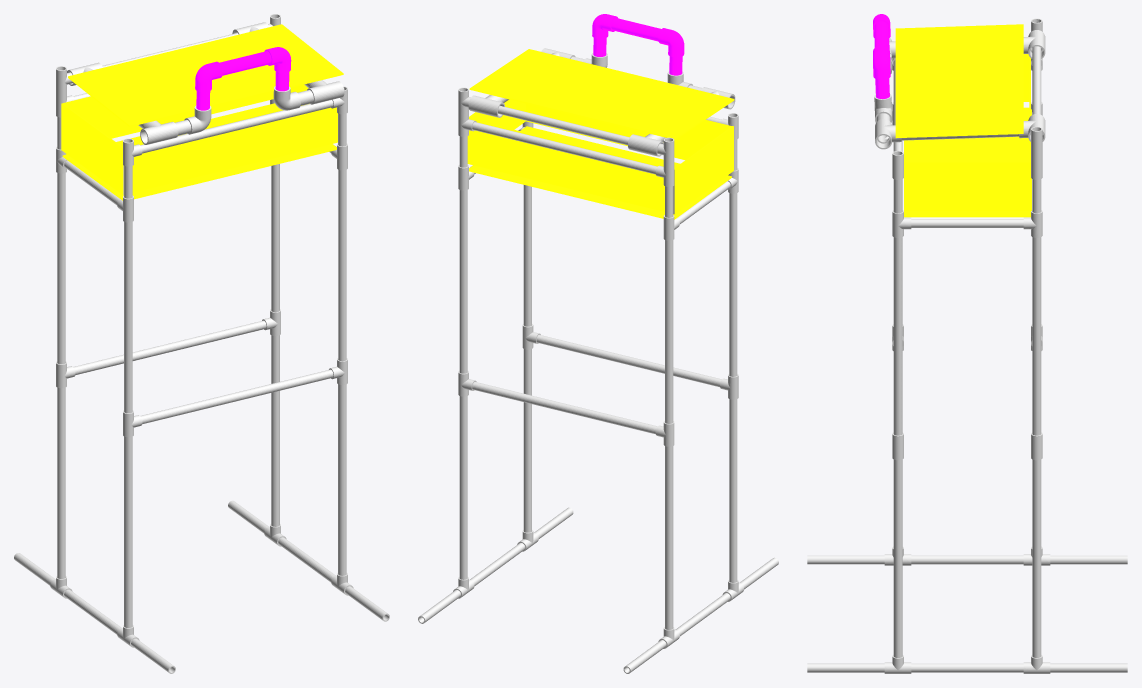
File: coffin.dae
3 views of the same model, side by side, from view 1: azimuth 30°, elevation 25°; view 2: azimuth 150°, elevation 25°; view 3: azimuth 270°, elevation 25° (orthographic). The views are drawn at different scales.
Visible parts, largest first — view 1: Coffin Tower; view 2: Coffin Tower; view 3: Coffin Tower.
Boxes of the visible parts, x1,y1,x2,y2 form: Coffin Tower: [14, 14, 389, 673]; Coffin Tower: [418, 14, 778, 673]; Coffin Tower: [807, 14, 1127, 673].
Size of the model in its own units: 0.6372 by 0.762 by 1.54.
